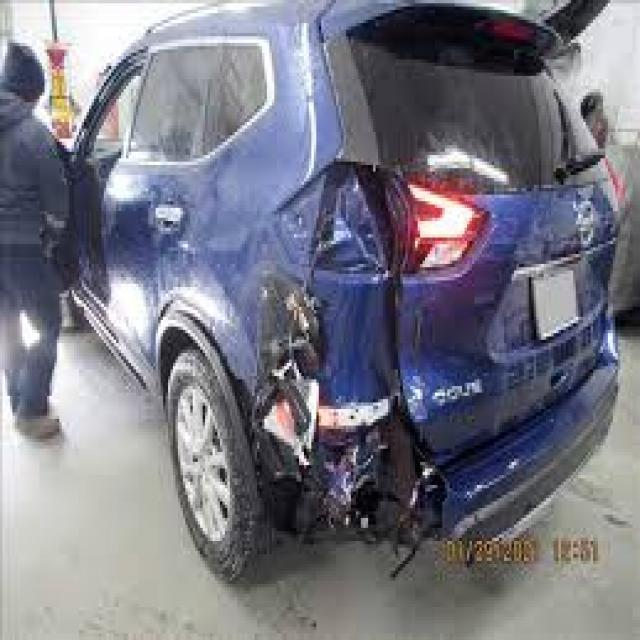damaged-rear-bumper: (266, 418, 513, 547)
